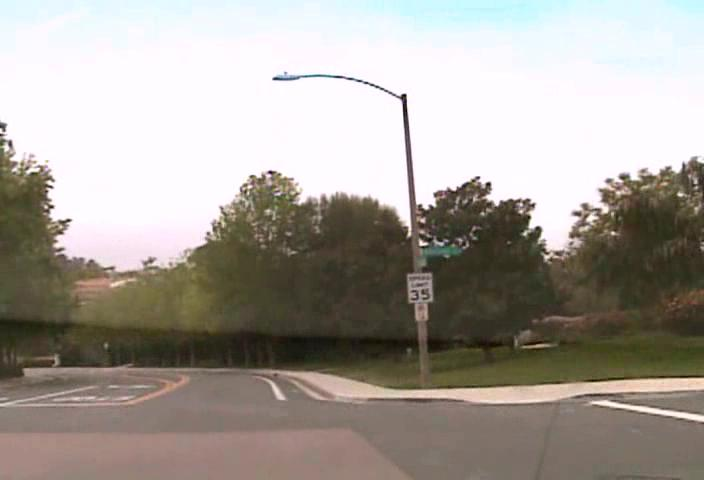speedLimit35: (406, 271, 434, 304)
